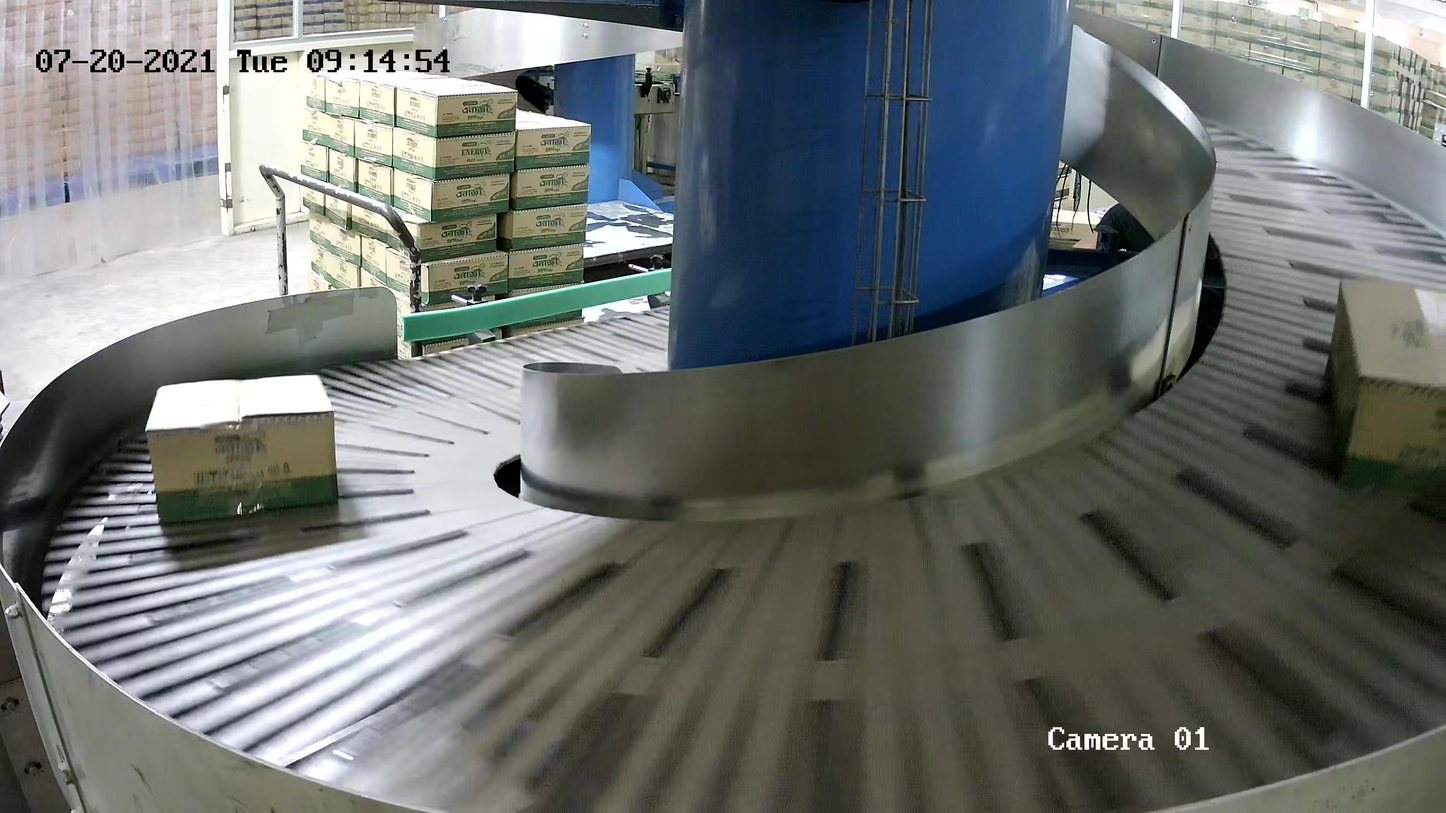Box: (143, 372, 341, 526), (1323, 276, 1446, 498)
